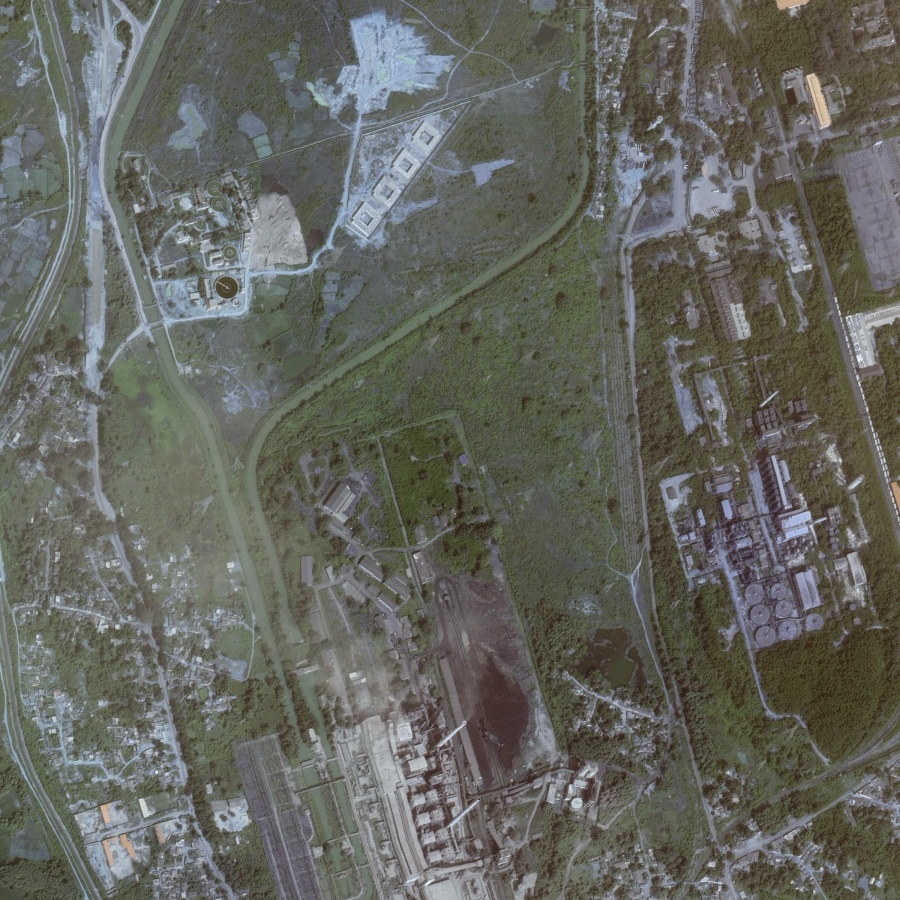PowerPlant: (342, 565, 539, 862)
